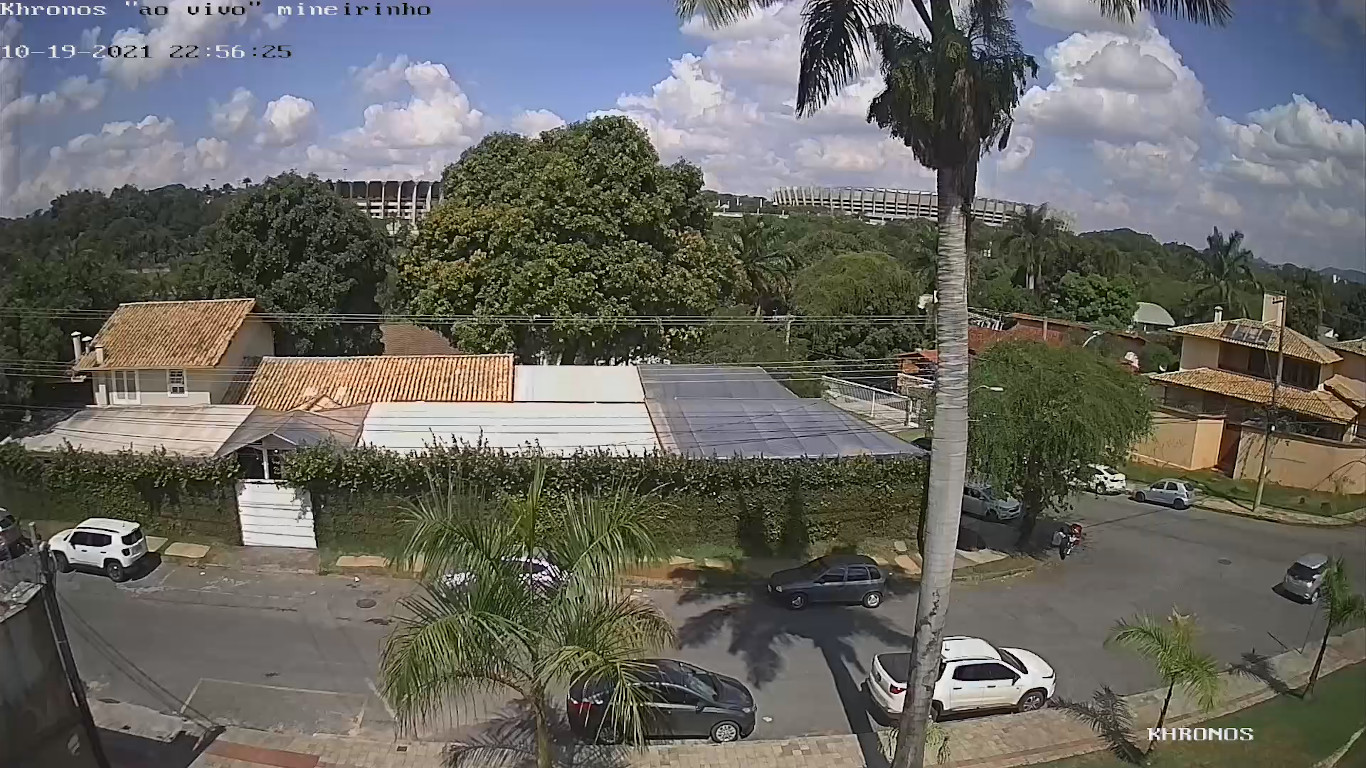car: (866, 634, 1060, 730), (566, 654, 760, 748), (42, 513, 151, 582), (766, 551, 887, 609), (1276, 551, 1346, 606), (1130, 476, 1197, 511)
motorcycle: (1048, 515, 1088, 564)
